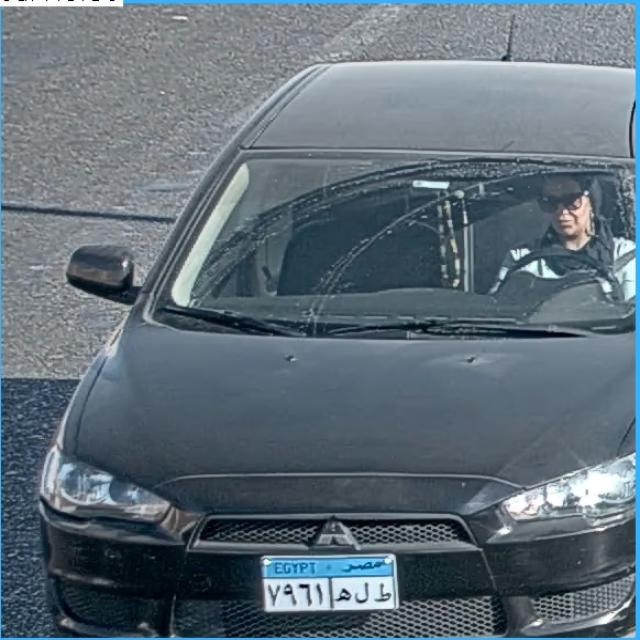windshield: (148, 153, 639, 331)
